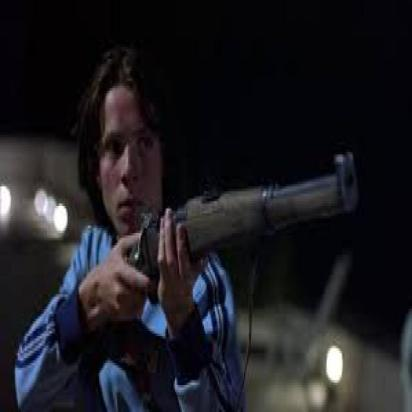Gun: (121, 150, 362, 318)
